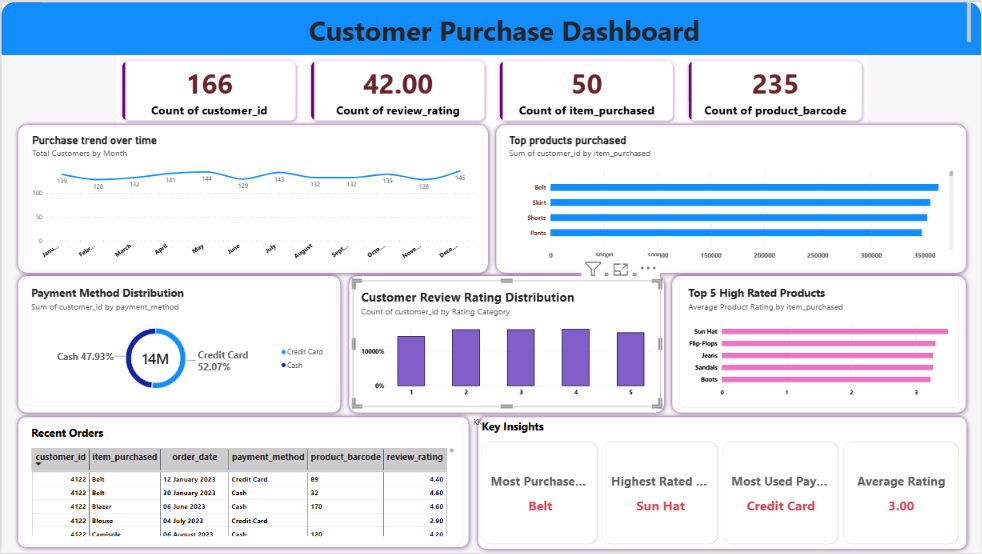

The dashboard page shown, as its layout file describes it:
{"tool":"powerbi","page":{"name":"Customer purchase dashboard","canvas":[1920,1080],"ordinal":0},"visuals":[{"type":"cardVisual","fields":{"Data":["Count(public staging_fashion_sales.customer_id)","Count(public staging_fashion_sales.review_rating)","Count(public staging_fashion_sales.item_purchased)","Count(public staging_fashion_sales.product_barcode)"]},"box":[226.2,103.2,1473.1,139.3],"z":0},{"type":"shape","box":[0,0,1920.1,103.2],"z":1000},{"type":"textbox","box":[77.8,0,1822.3,83.2],"z":2000},{"type":"shape","box":[23.5,231.6,939.2,307.6],"z":3000},{"type":"shape","box":[960.9,231.6,939.2,307.6],"z":4000},{"type":"lineChart","title":"Purchase trend over time","fields":{"Category":["public staging_fashion_sales.order_date.Variation.Date Hierarchy.Month"],"Y":["public staging_fashion_sales.Total Customers"]},"box":[43.4,242.5,901.2,284.1],"z":5000},{"type":"shape","box":[23.5,526.6,649.7,285.9],"z":6000},{"type":"clusteredBarChart","title":"Top products purchased","fields":{"Category":["public staging_fashion_sales.item_purchased"],"Y":["Sum(public staging_fashion_sales.customer_id)"]},"box":[979,242.5,904.8,284.1],"z":7000},{"type":"donutChart","title":"Payment Method Distribution","fields":{"Category":["public staging_fashion_sales.payment_method"],"Y":["Sum(public staging_fashion_sales.customer_id)"]},"box":[41.6,539.3,615.4,251.1],"z":8000},{"type":"shape","box":[924.7,803.5,975.4,276.9],"z":9000},{"type":"shape","box":[673.2,526.6,635.2,285.9],"z":10000},{"type":"clusteredColumnChart","title":"Customer Review Rating Distribution","fields":{"Category":["public staging_fashion_sales.Rating Category"],"Y":["Count(public staging_fashion_sales.customer_id)"]},"box":[687.7,544.7,605.1,249.1],"z":11000},{"type":"shape","box":[1306.6,526.6,593.6,285.9],"z":11500},{"type":"shape","box":[23.5,803.5,901.2,273.3],"z":12000},{"type":"tableEx","title":"Recent Orders","fields":{"Values":["public staging_fashion_sales.customer_id","public staging_fashion_sales.item_purchased","public staging_fashion_sales.order_date","public staging_fashion_sales.payment_method","public staging_fashion_sales.product_barcode","public staging_fashion_sales.review_rating"]},"box":[41.6,814.3,863.2,249.7],"z":13000},{"type":"textbox","box":[924.7,814.3,295,262.4],"z":14000},{"type":"cardVisual","title":"Key Insights","fields":{"Data":["public staging_fashion_sales.Most Purchased Item","public staging_fashion_sales.Highest Rated Item","public staging_fashion_sales.Most Used Payment Method","public staging_fashion_sales.Average Rating"]},"box":[941,816.2,937.4,247.9],"z":15000},{"type":"clusteredBarChart","title":"Top 5 High Rated Products","fields":{"Category":["public staging_fashion_sales.item_purchased"],"Y":["public staging_fashion_sales.Average Product Rating"]},"box":[1330.1,539.3,548.3,255.2],"z":17000}]}

Visuals, with their boxes in screenshot pixels (x1, y1, x2, y2), scaled from the page's 1920x1080 canvas onto the 982x554 screenshot:
cardVisual - Count(public staging_fashion_sales.customer_id) x Count(public staging_fashion_sales.review_rating): detection(116, 53, 869, 124)
shape: detection(0, 0, 981, 53)
textbox: detection(40, 0, 972, 43)
shape: detection(12, 119, 492, 277)
shape: detection(491, 119, 972, 277)
"Purchase trend over time" lineChart: detection(22, 124, 483, 270)
shape: detection(12, 270, 344, 417)
"Top products purchased" clusteredBarChart: detection(501, 124, 963, 270)
"Payment Method Distribution" donutChart: detection(21, 277, 336, 405)
shape: detection(473, 412, 972, 553)
shape: detection(344, 270, 669, 417)
"Customer Review Rating Distribution" clusteredColumnChart: detection(352, 279, 661, 407)
shape: detection(668, 270, 972, 417)
shape: detection(12, 412, 473, 552)
"Recent Orders" tableEx: detection(21, 418, 463, 546)
textbox: detection(473, 418, 624, 552)
"Key Insights" cardVisual: detection(481, 419, 961, 546)
"Top 5 High Rated Products" clusteredBarChart: detection(680, 277, 961, 408)
